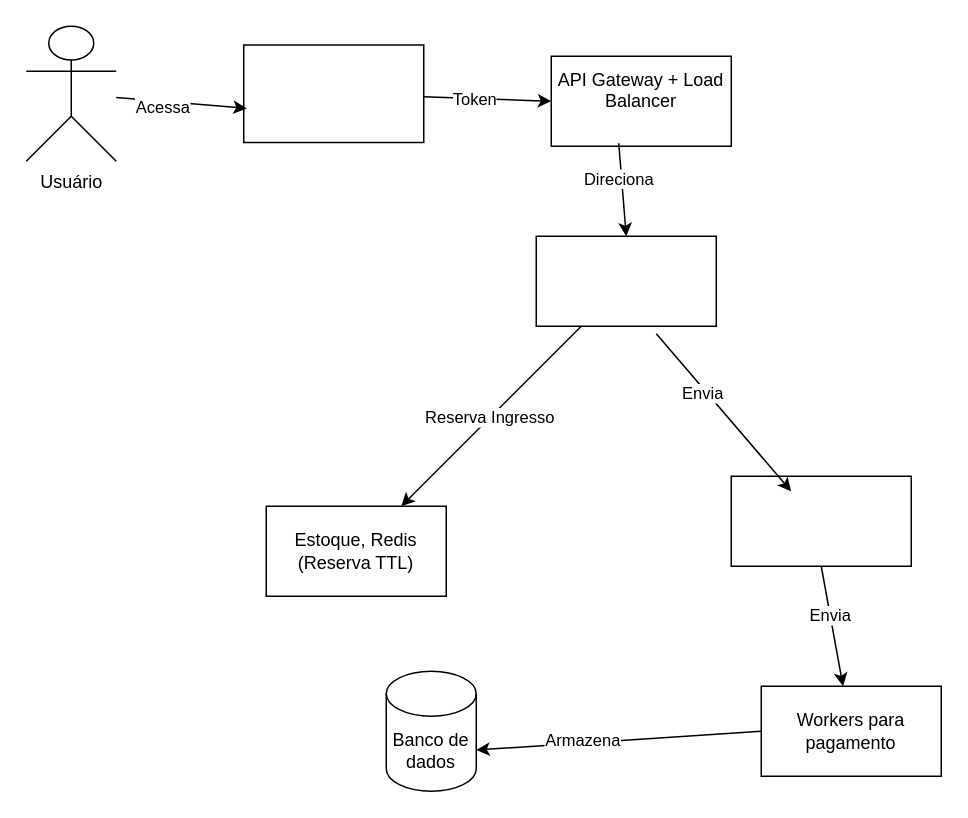
Image size: 968x818. Some labels were removed from this diagram. The box of each missing label's shape, as (x1, y1, x2, y2) in pixels:
Fila de Espera V irtual (FIFO): (242, 44, 424, 142)
Fila de Pedidos: (730, 475, 911, 566)
Serviço de Compra de Ingresso: (535, 235, 716, 326)
